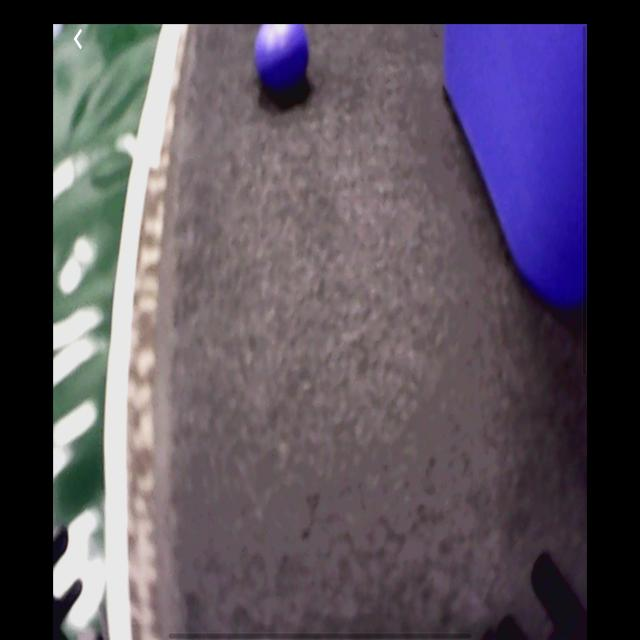ball: (254, 25, 309, 93)
